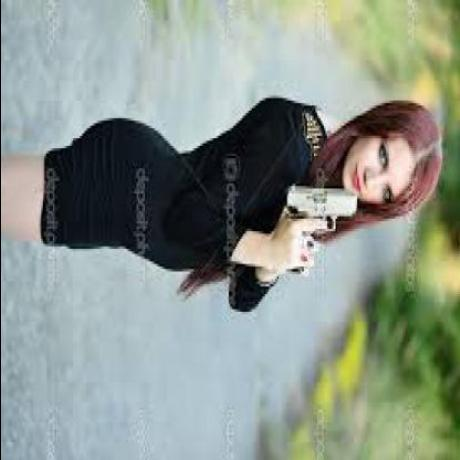1: (0, 99, 446, 299)
weapon: (271, 181, 361, 239)
